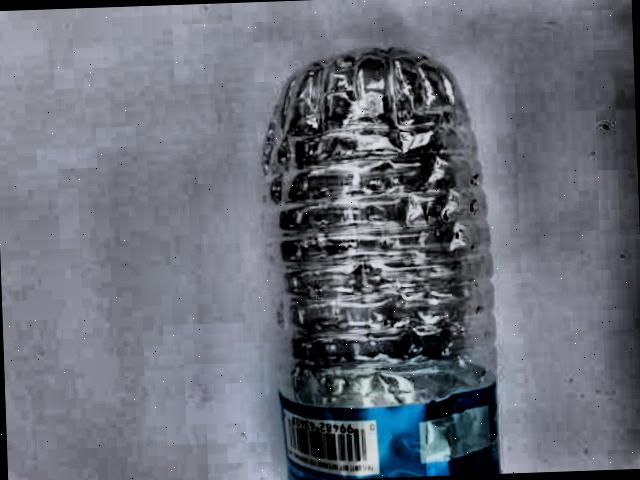Bottles: (249, 45, 512, 480)
